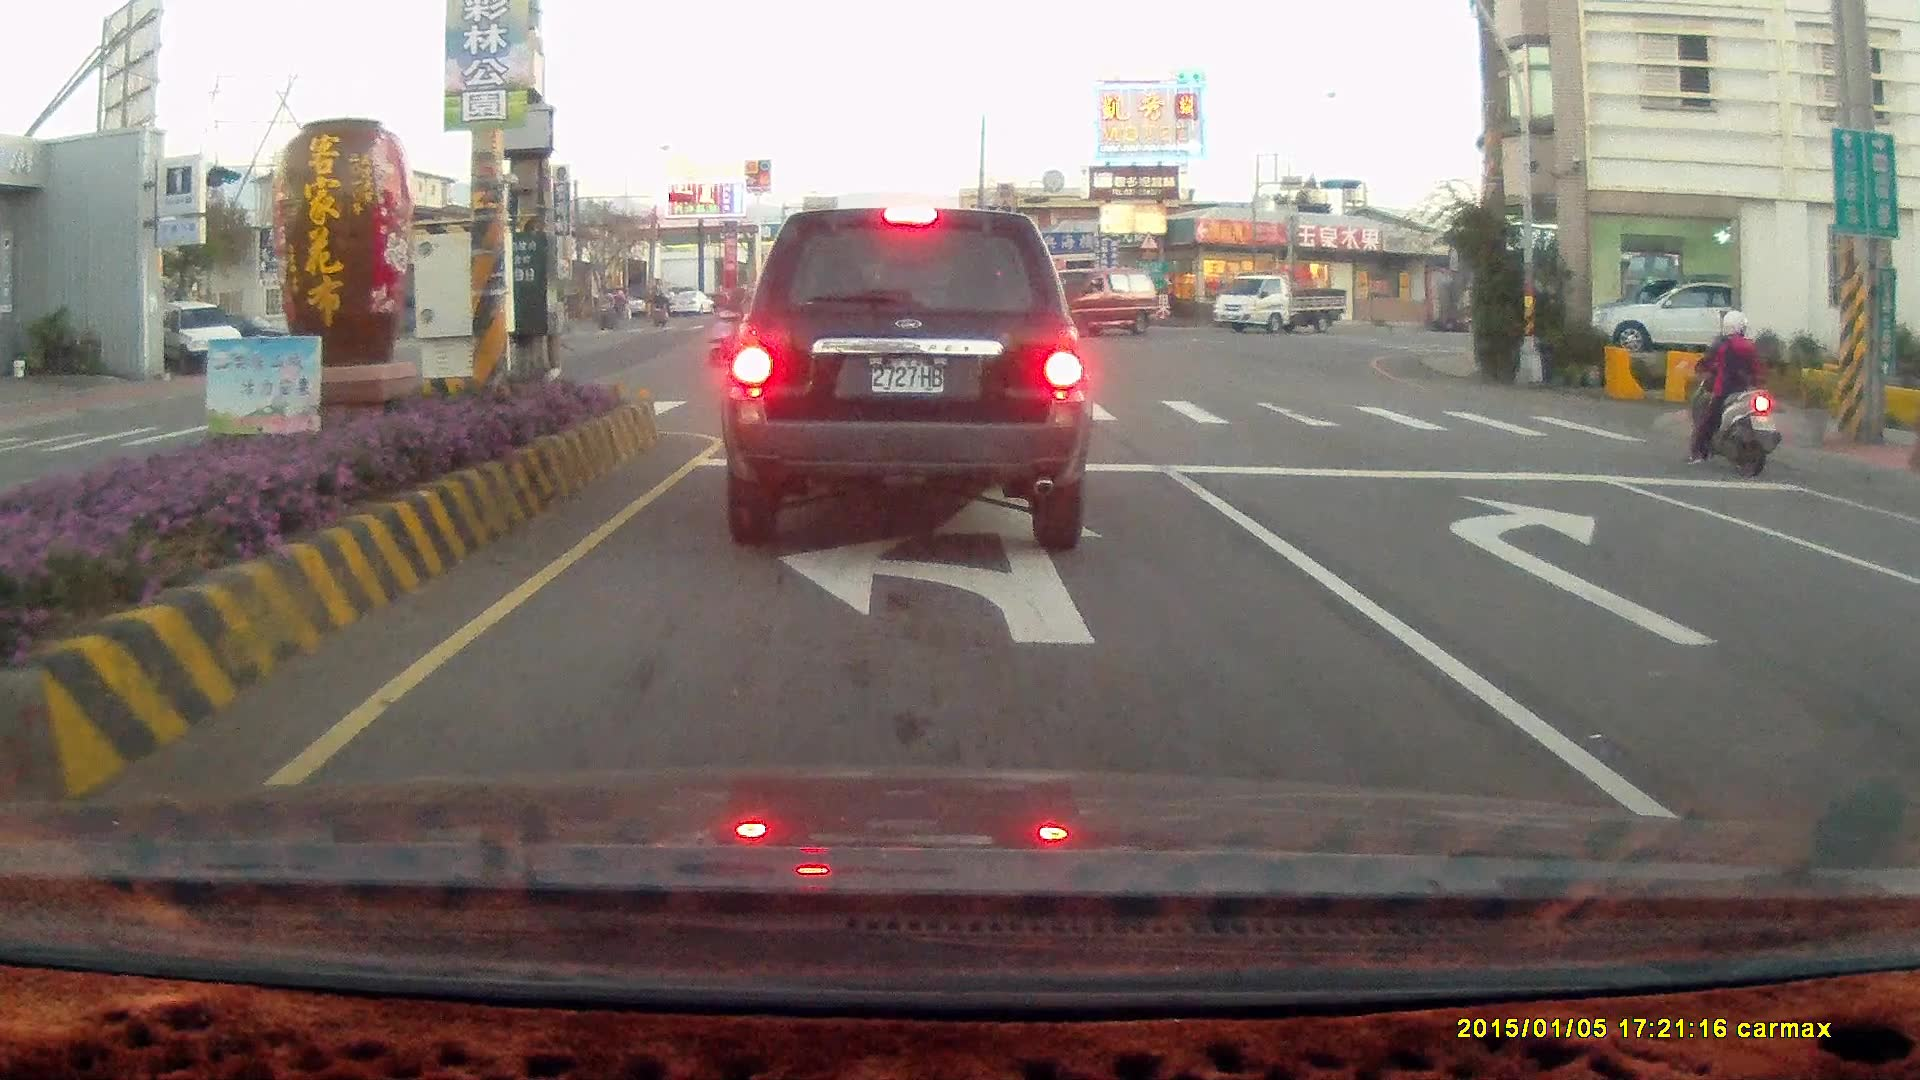rider: (1687, 308, 1782, 475), (704, 280, 763, 368), (595, 288, 622, 328), (651, 289, 672, 326)
vehicle: (718, 205, 1093, 551), (1579, 274, 1779, 352), (1596, 280, 1731, 350), (1213, 274, 1351, 339), (1027, 267, 1153, 337), (1028, 268, 1155, 338), (137, 298, 243, 377), (1896, 493, 1920, 836), (1883, 528, 1920, 690)
